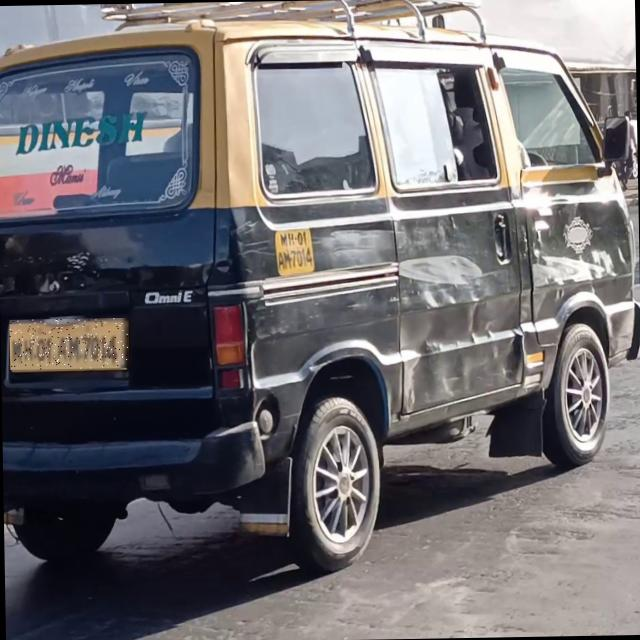Plate: (11, 319, 130, 371)
